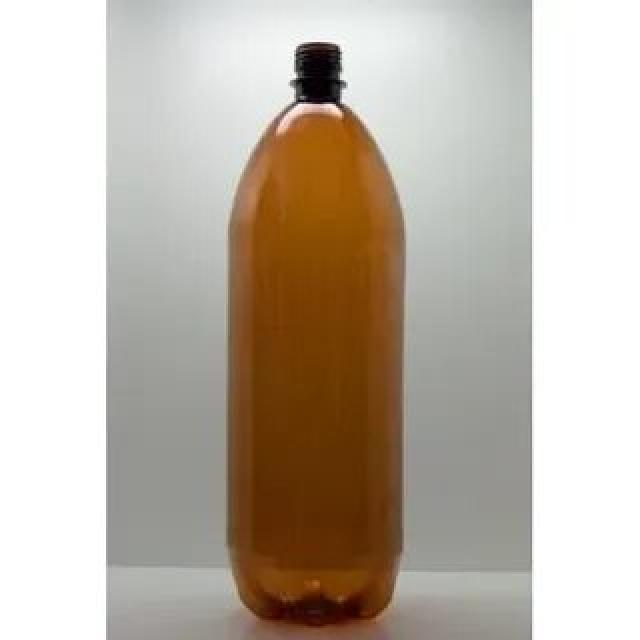brown: (228, 43, 404, 622)
